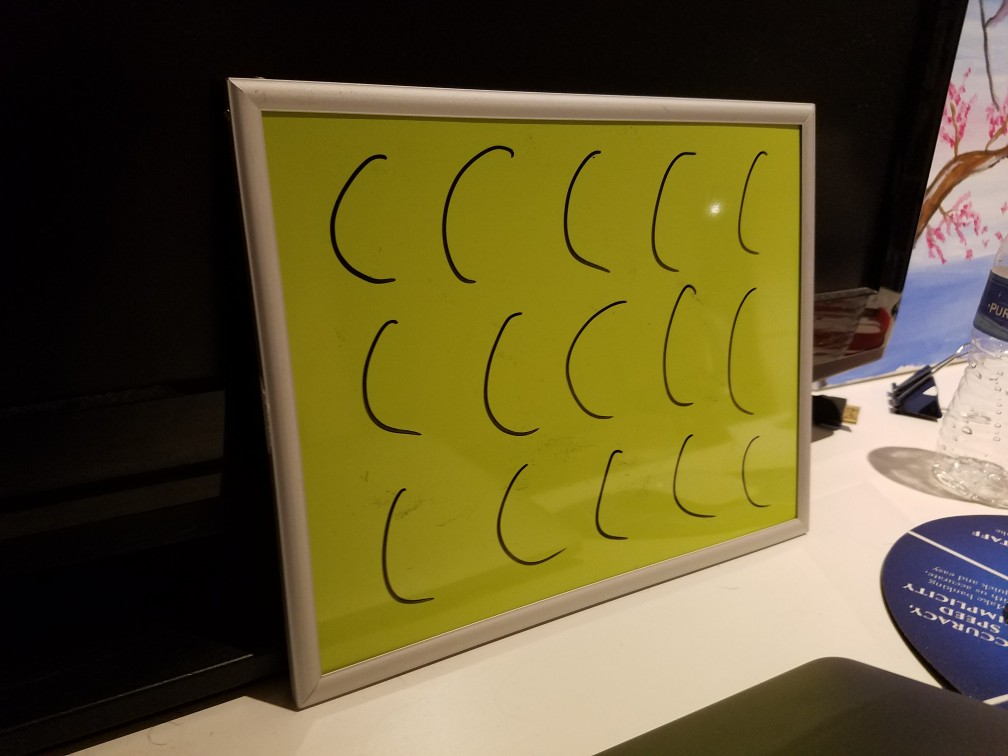(: (335, 312, 430, 451), (432, 132, 517, 287), (353, 474, 435, 620), (323, 140, 401, 291), (563, 298, 641, 433), (464, 306, 541, 440), (554, 138, 624, 280), (485, 462, 569, 573), (641, 135, 705, 275), (732, 133, 786, 266), (588, 445, 645, 553), (726, 281, 769, 423), (662, 282, 707, 416), (666, 426, 717, 527), (735, 429, 775, 513)
